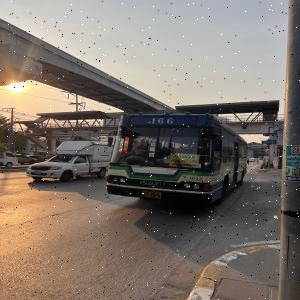BMTA-bus: (105, 114, 249, 206)
Bus Line Number: (150, 116, 176, 126)
Bus Side Number: (180, 174, 205, 182)
Destination Sign: (169, 152, 200, 170)
